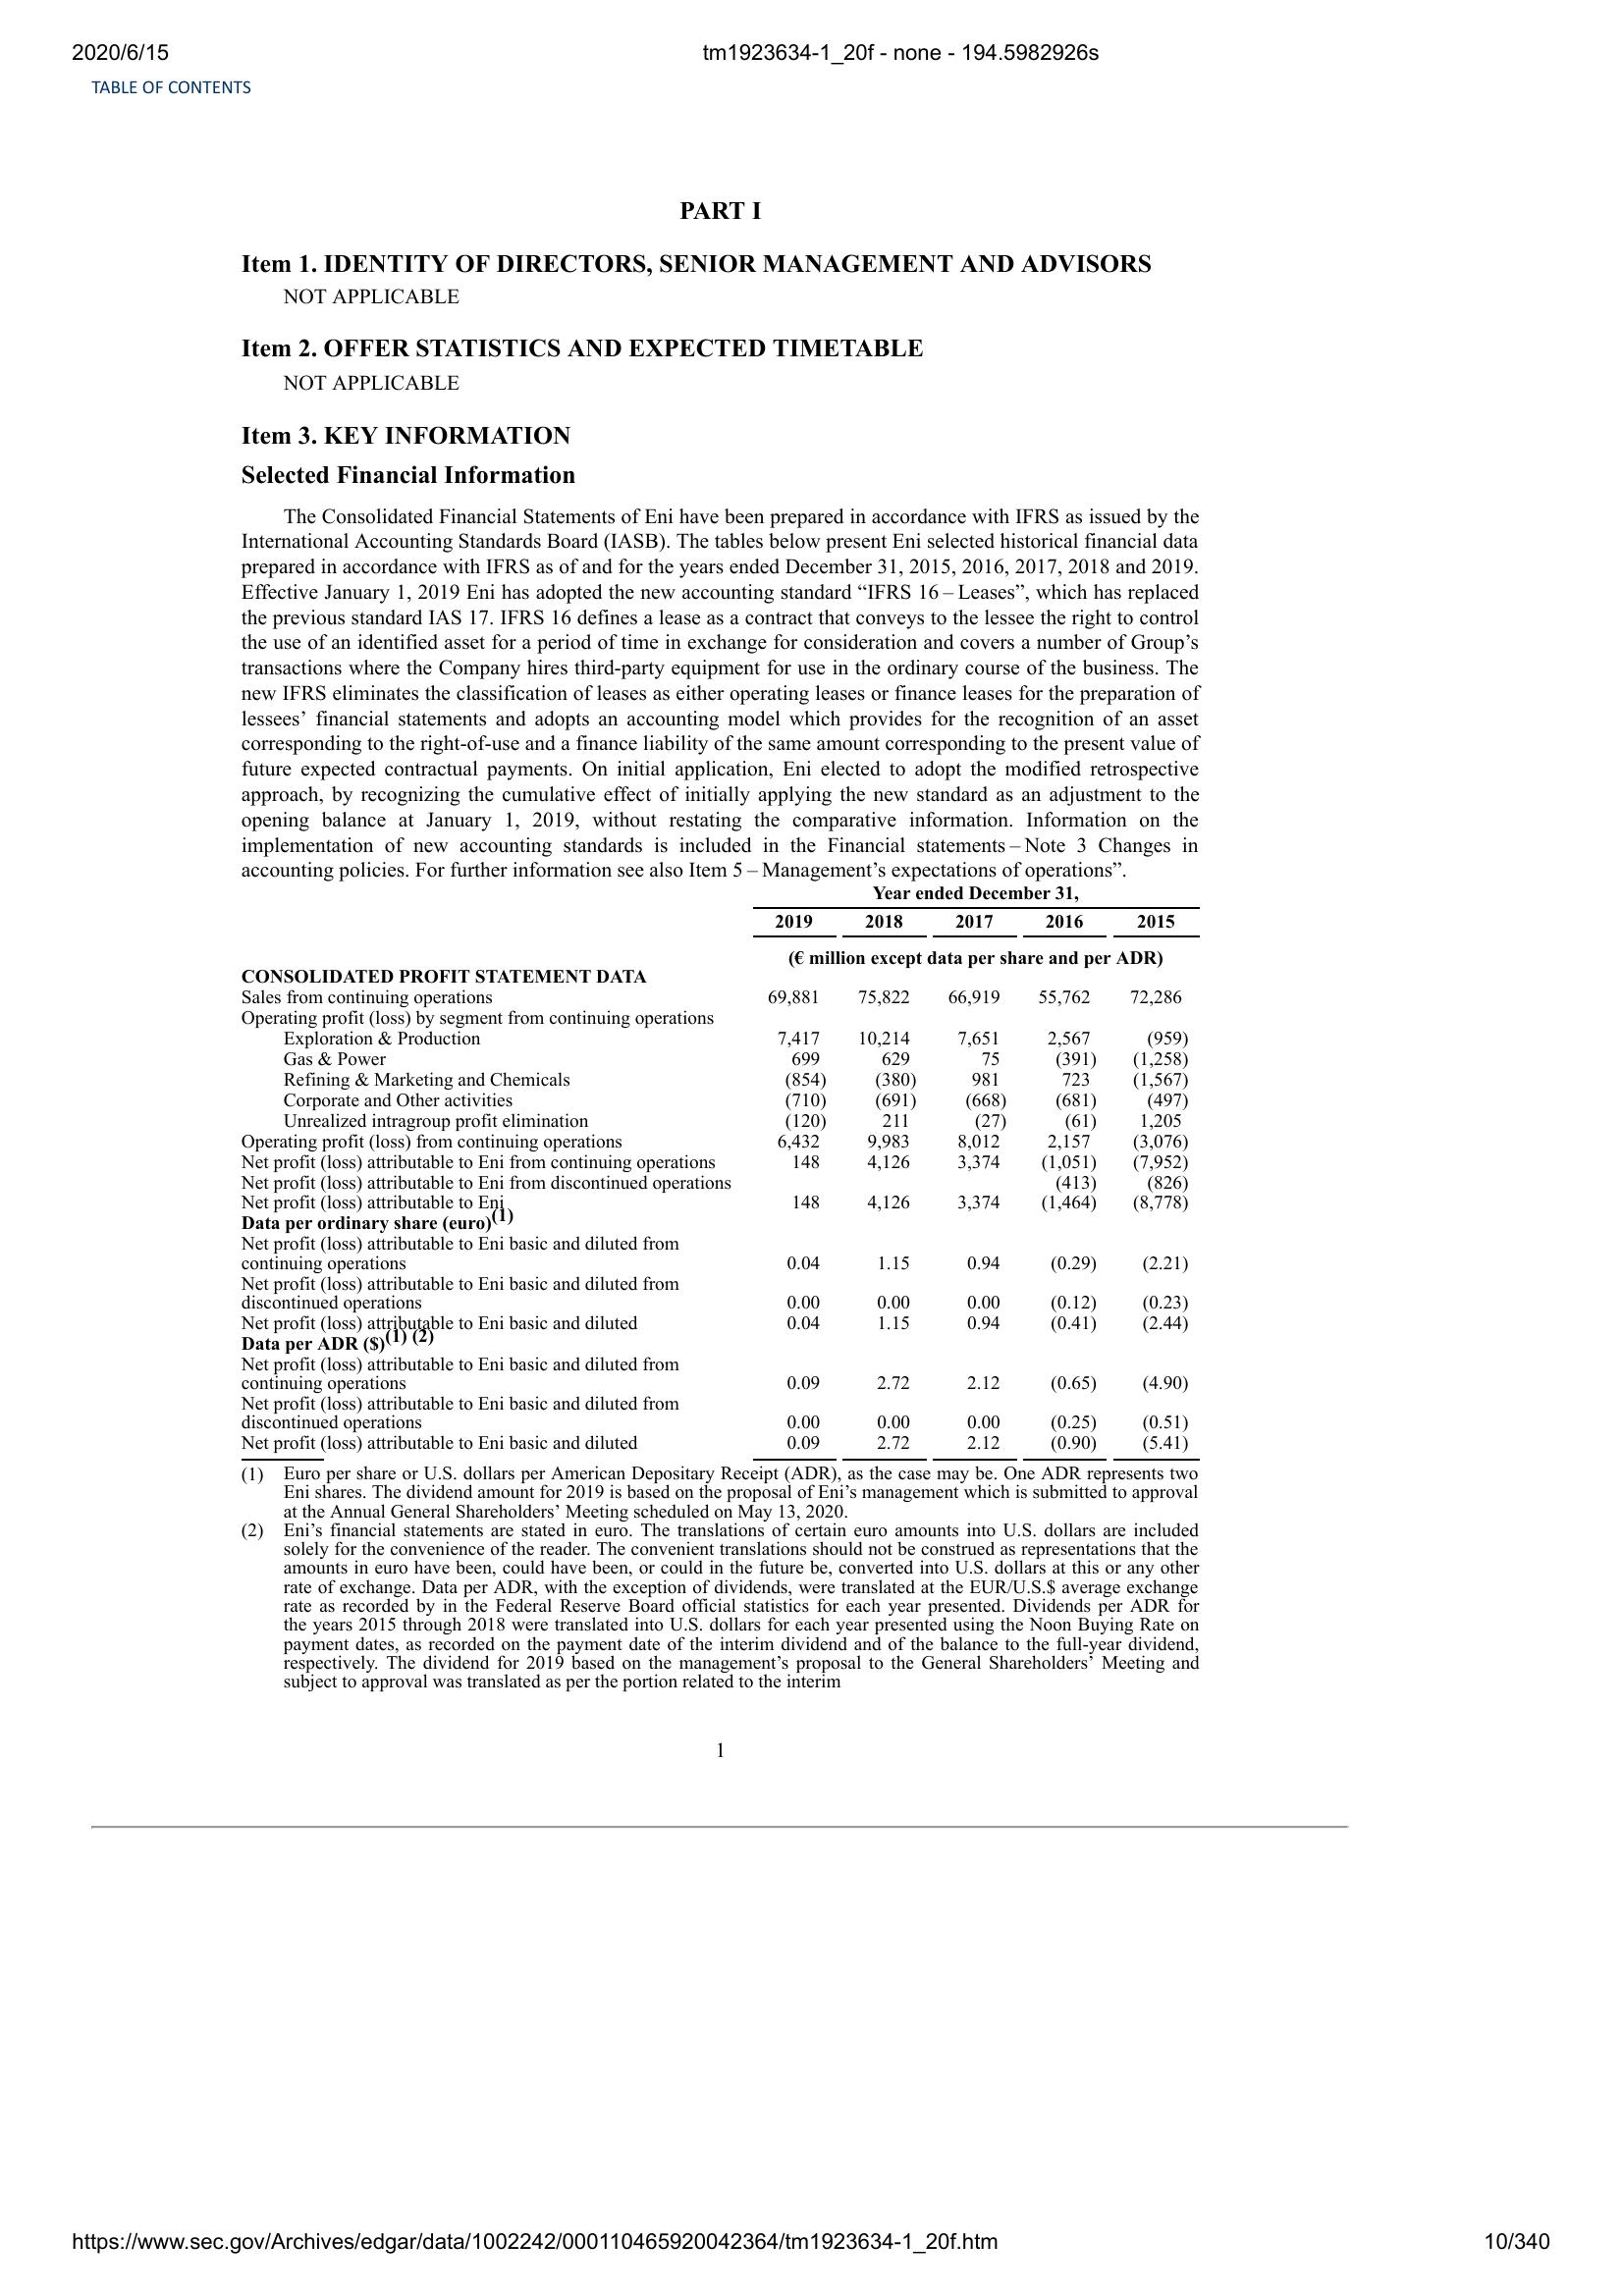table: (234, 878, 1205, 1471)
